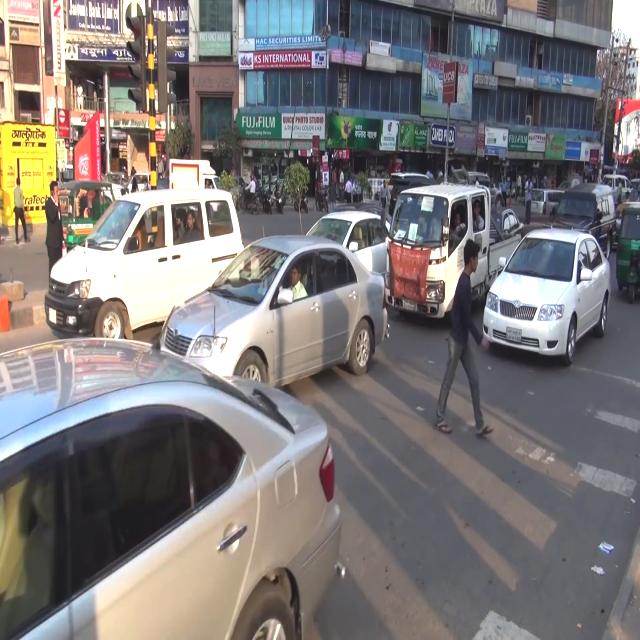silver: (0, 336, 346, 638), (158, 232, 390, 389)
white: (44, 186, 245, 340), (482, 224, 611, 366), (297, 216, 394, 299)
